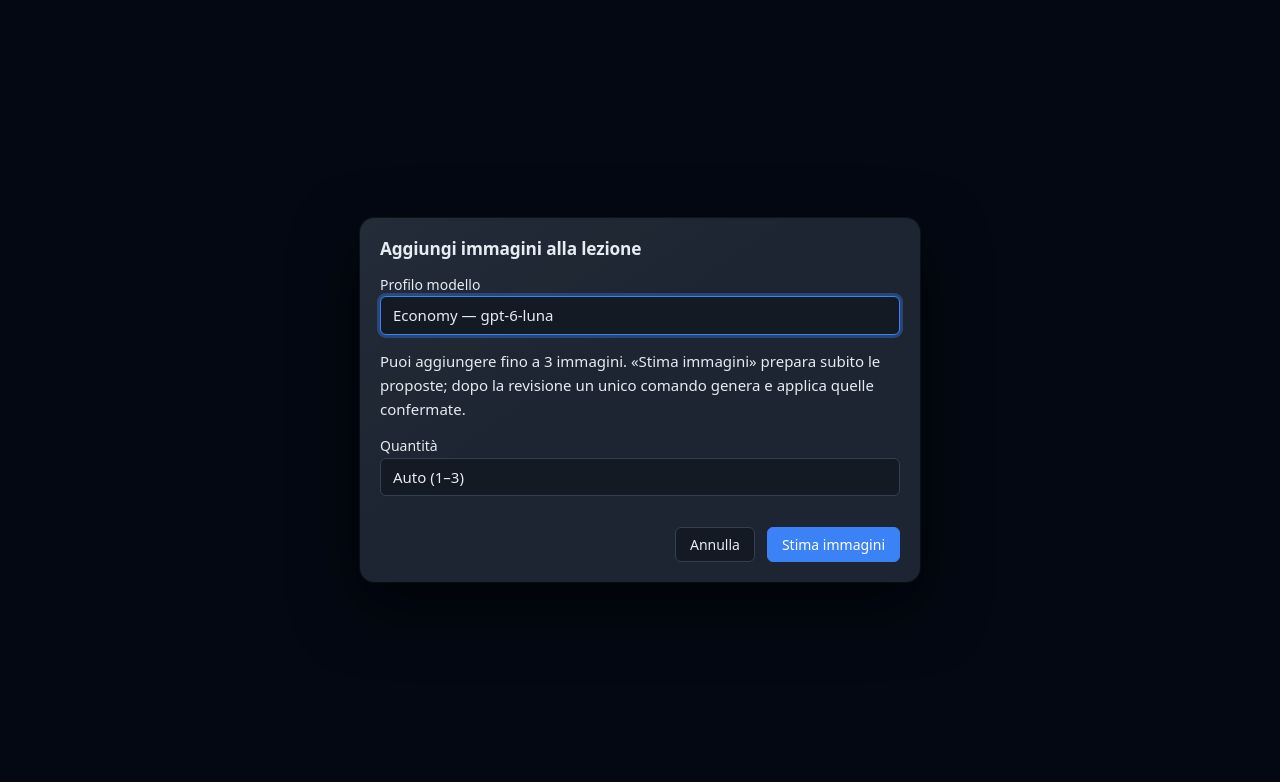
Test: LessonMultiVisualWorkflowDialog › stima al primo click senza conferma e senza generare immagini
What coordinates should you click on to do the following:
click the button "Stima immagini"
I would click on:
 (833, 544)
Its box is 767,527 -> 900,562.
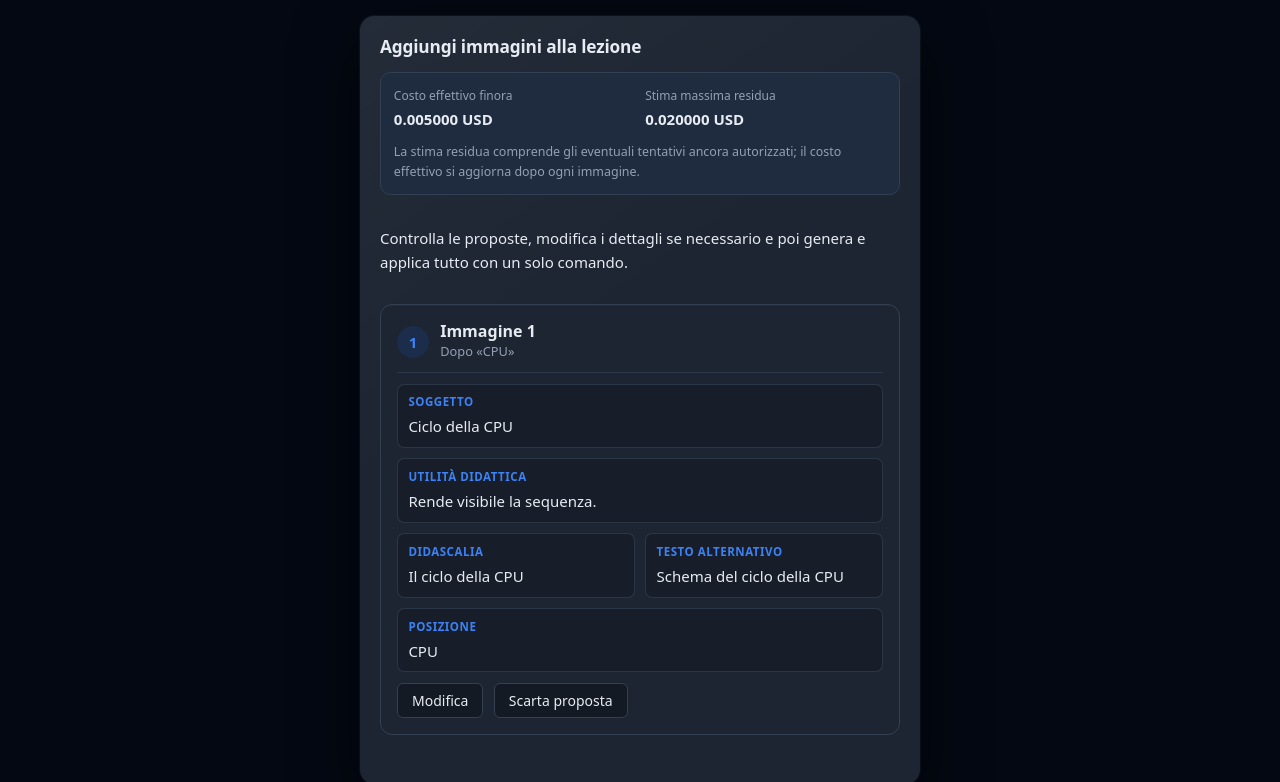
Expected: the text "Ciclo della CPU" is shown, 408,416 -> 513,436
